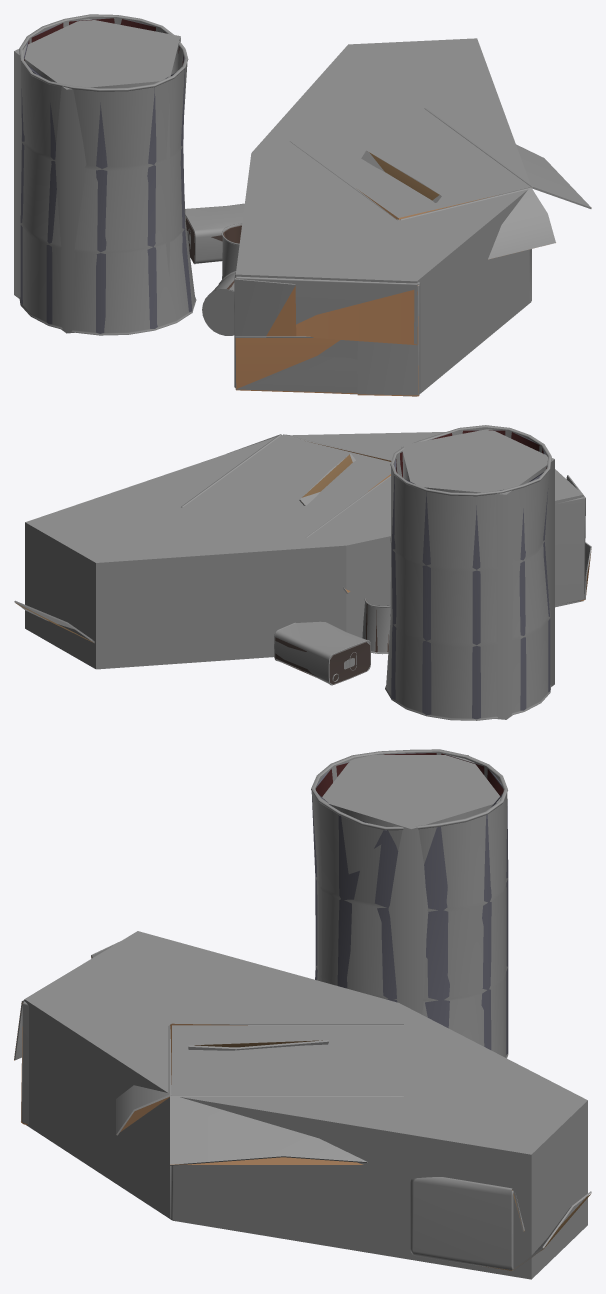
File: ind_clutter_mix.DAE
The picture shows the model from 3 angles, top to bottom: view 1: azimuth 30°, elevation 25°; view 2: azimuth 150°, elevation 25°; view 3: azimuth 270°, elevation 25°; orthographic projection. The views are drawn at different scales.
Visible parts, largest first — view 1: Colmesh_ind_clutter_mix-1, ind_clutter_mix200, ind_clutter_mix70; view 2: Colmesh_ind_clutter_mix-1, ind_clutter_mix200, ind_clutter_mix70; view 3: Colmesh_ind_clutter_mix-1, ind_clutter_mix200, ind_clutter_mix70.
Boxes of the visible parts, box(x1,y1,x2,y2) form: Colmesh_ind_clutter_mix-1: box(14, 18, 531, 396); ind_clutter_mix200: box(19, 14, 591, 395); ind_clutter_mix70: box(20, 18, 493, 396); Colmesh_ind_clutter_mix-1: box(25, 429, 583, 719); ind_clutter_mix200: box(14, 425, 591, 720); ind_clutter_mix70: box(15, 430, 591, 719); Colmesh_ind_clutter_mix-1: box(24, 755, 587, 1279); ind_clutter_mix200: box(14, 749, 591, 1270); ind_clutter_mix70: box(14, 753, 591, 1270).
Bounding box in the file's own units: 190 × 172 × 87.75.
